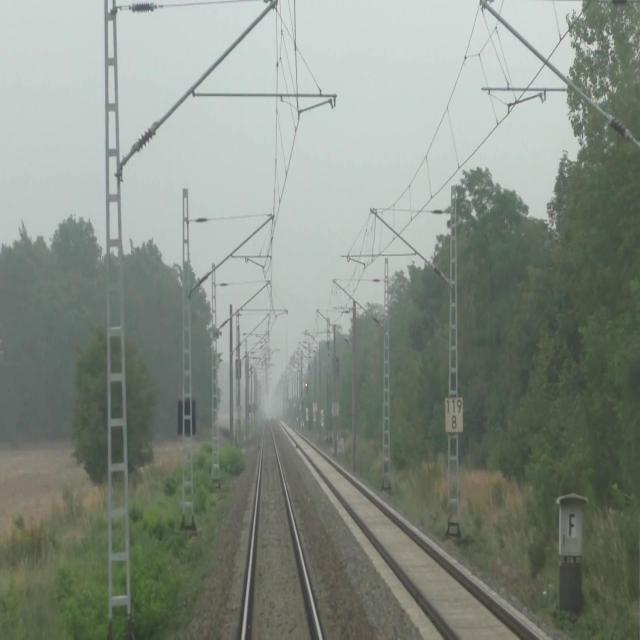rail-track: (300, 440, 534, 639), (246, 422, 317, 639)
